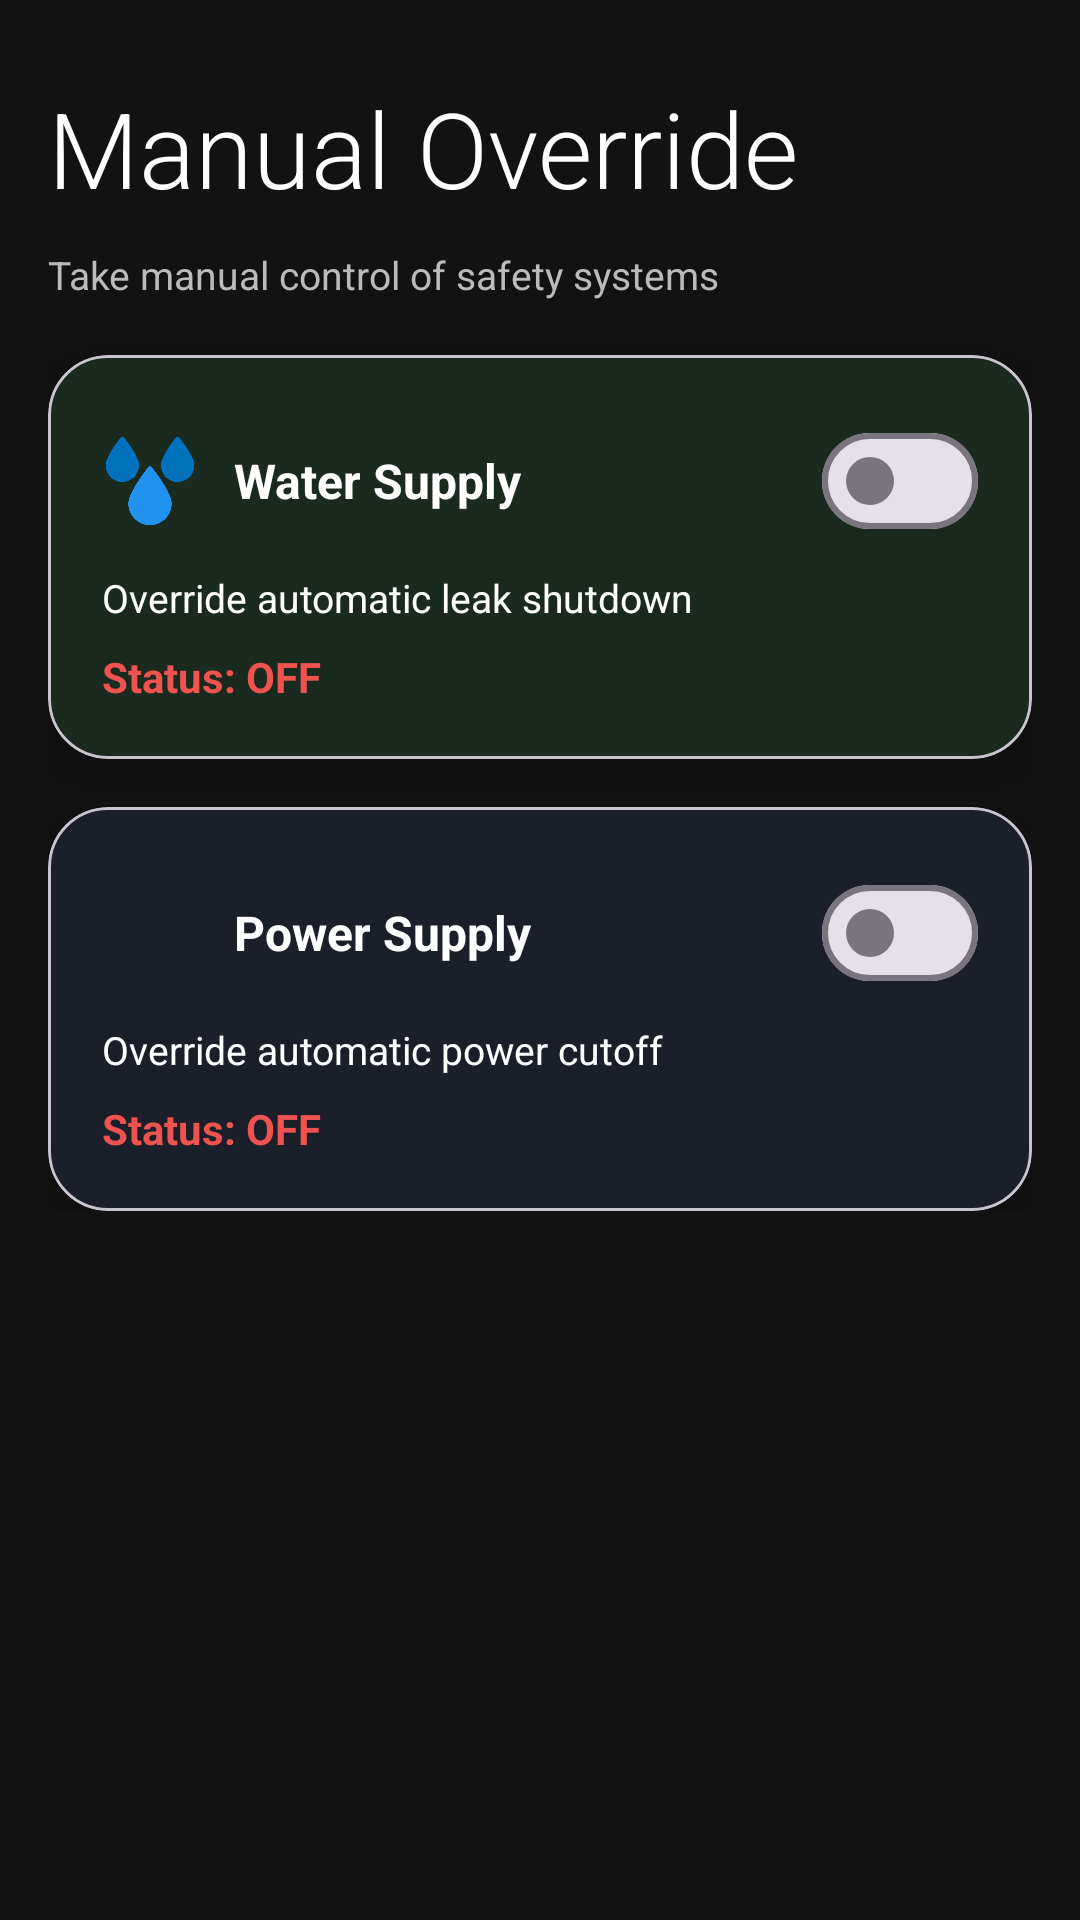

Screen size 1080w x 1920h. Icon name, then its center in pixels as point (x, y):
rain drops: point (150, 481)
